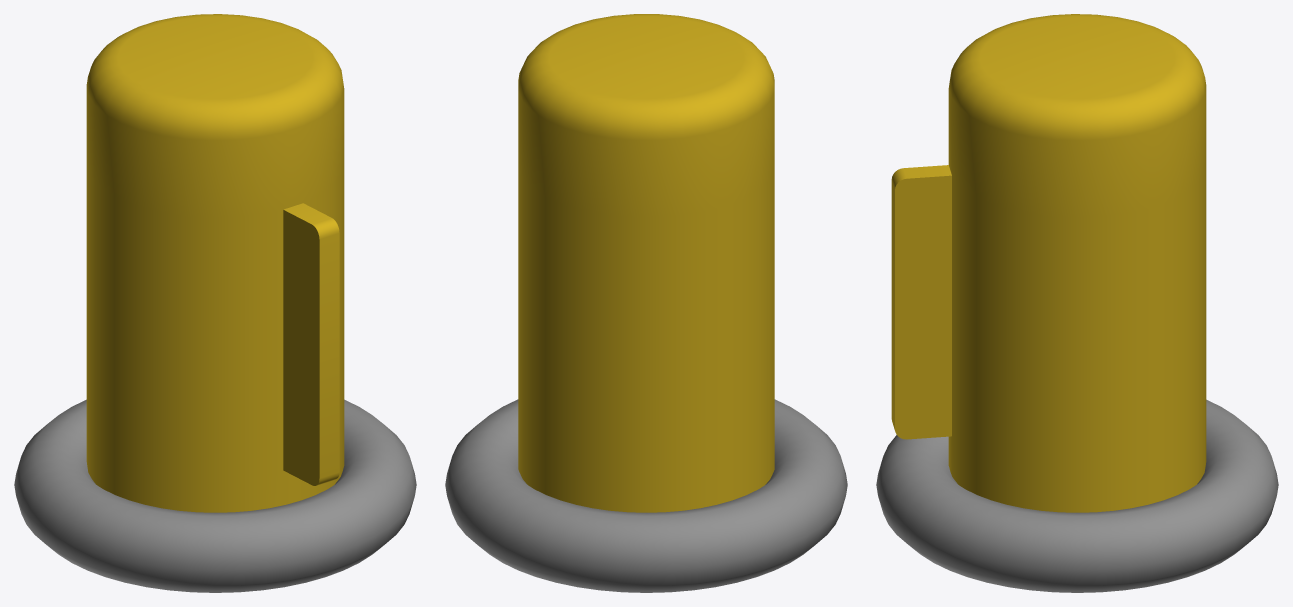
Rendered from bouton tournant 3 v2.glb.
3 views of the same model, side by side, from view 1: azimuth 30°, elevation 25°; view 2: azimuth 150°, elevation 25°; view 3: azimuth 270°, elevation 25° (orthographic).
Visible parts, largest first — view 1: Bouton Tournant 3, Base Tournant 3; view 2: Bouton Tournant 3, Base Tournant 3; view 3: Bouton Tournant 3, Base Tournant 3.
Part boxes in pixels (x1,y1,x2,y2): Bouton Tournant 3: (86, 14, 344, 512); Base Tournant 3: (14, 399, 416, 592); Bouton Tournant 3: (518, 14, 774, 512); Base Tournant 3: (445, 399, 847, 592); Bouton Tournant 3: (891, 14, 1206, 512); Base Tournant 3: (876, 399, 1278, 592).
Bounding box in the file's own units: 0.25 × 0.3176 × 0.25.
